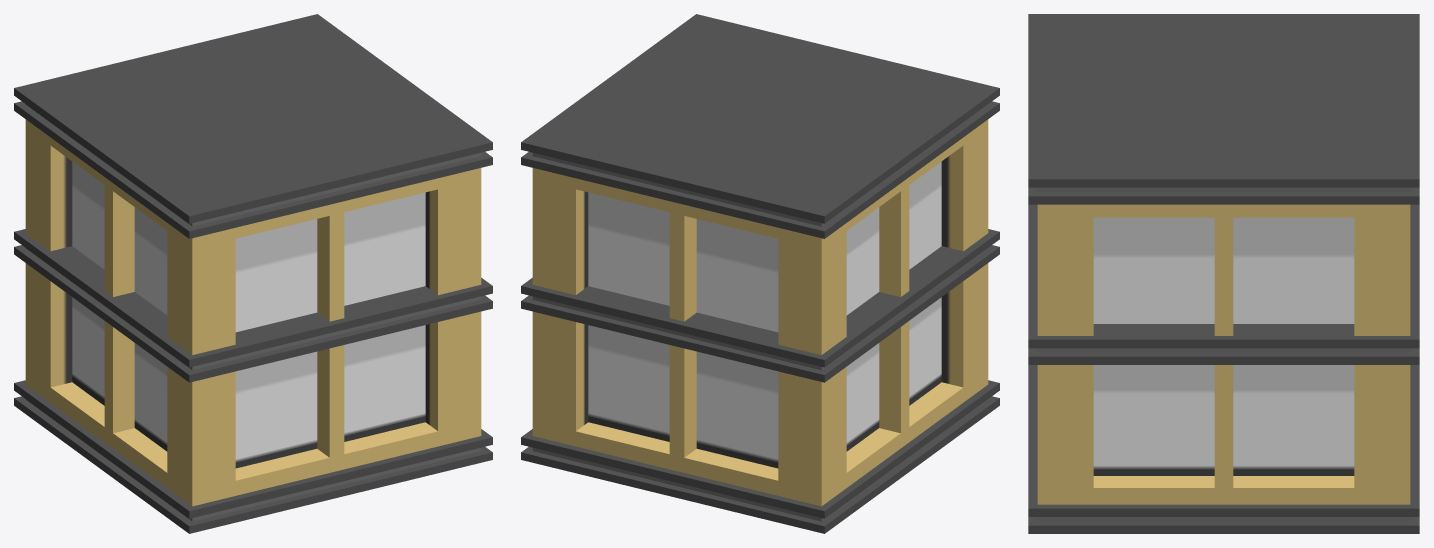
File: Tower_14.fbx
The picture shows the model from 3 angles, left to right: view 1: azimuth 30°, elevation 25°; view 2: azimuth 150°, elevation 25°; view 3: azimuth 270°, elevation 25°; orthographic projection. The views are drawn at different scales.
Parts seen in each view (by area): view 1: Box; view 2: Box; view 3: Box.
Boxes of the visible parts, box(x1,y1,x2,y2) form: Box: box(14, 14, 492, 533); Box: box(521, 14, 999, 533); Box: box(1028, 14, 1419, 533).
Size of the model in its own units: 42 by 42 by 42.
1 material, 1 textured.
